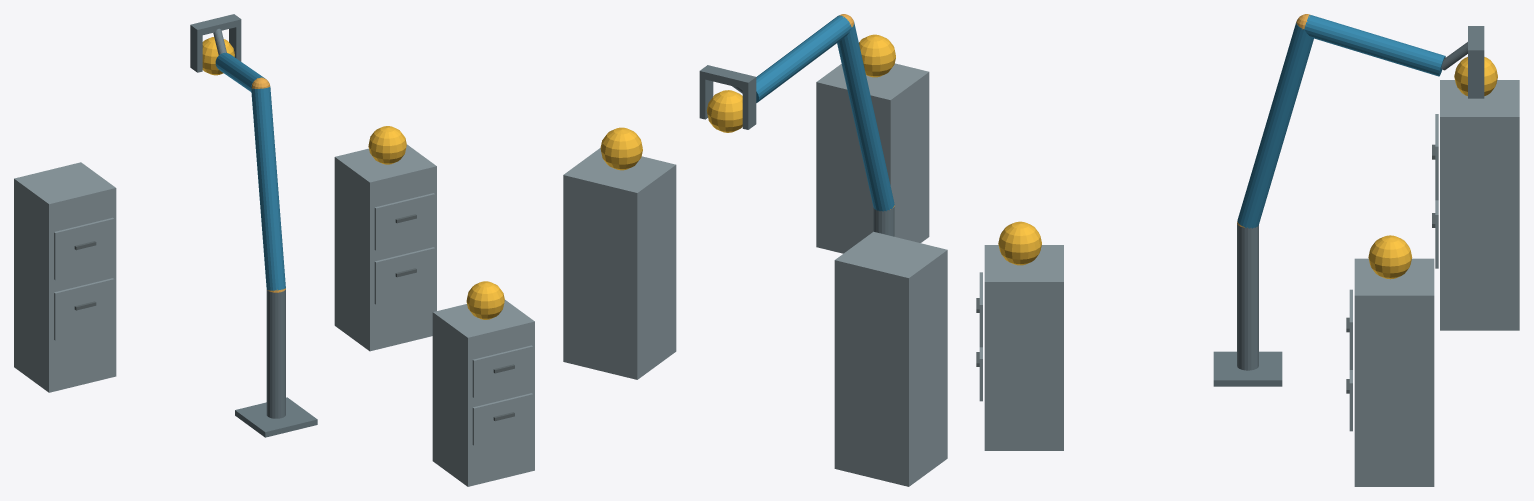
3 renders of one model, left to right at view 1: azimuth 30°, elevation 25°; view 2: azimuth 150°, elevation 25°; view 3: azimuth 270°, elevation 25°, orthographic. The views are drawn at different scales.
Parts seen in each view (by area): view 1: cabinet_3 body, cabinet_2 body, cabinet_1 body, moving link 1, cabinet_3 drawer front.001, cabinet_3 drawer front, cabinet_2 drawer front, cabinet_2 drawer front.001, fixed post, cabinet_1 drawer front, cabinet_1 drawer front.001, pedestal (+5 smaller); view 2: cabinet_3 body, cabinet_2 body, cabinet_1 body, moving link 1, moving link 2, released ball_2, ball ball_3, released ball_1, gripper bridge, gripper finger -1, fixed post, gripper finger 1; view 3: cabinet_3 body, cabinet_2 body, cabinet_1 body, moving link 1, moving link 2, fixed post, pedestal, released ball_1, released ball_2, ball ball_3, gripper finger 1.
Part boxes in pixels (bbox=[...]): cabinet_3 body: bbox=[14, 162, 116, 392]; cabinet_2 body: bbox=[334, 144, 436, 351]; cabinet_1 body: bbox=[432, 300, 534, 486]; moving link 1: bbox=[251, 86, 285, 290]; cabinet_3 drawer front.001: bbox=[54, 217, 114, 280]; cabinet_3 drawer front: bbox=[54, 278, 114, 340]; cabinet_2 drawer front: bbox=[374, 247, 434, 304]; cabinet_2 drawer front.001: bbox=[374, 193, 434, 250]; fixed post: bbox=[266, 289, 285, 418]; cabinet_1 drawer front: bbox=[472, 393, 532, 445]; cabinet_1 drawer front.001: bbox=[472, 345, 532, 397]; pedestal: bbox=[235, 397, 317, 437]; cabinet_3 body: bbox=[834, 231, 947, 486]; cabinet_2 body: bbox=[563, 148, 676, 379]; cabinet_1 body: bbox=[816, 63, 929, 253]; moving link 1: bbox=[837, 22, 894, 211]; moving link 2: bbox=[756, 15, 851, 102]; released ball_2: bbox=[600, 127, 642, 170]; ball ball_3: bbox=[706, 90, 742, 132]; released ball_1: bbox=[859, 34, 895, 77]; gripper bridge: bbox=[699, 65, 756, 89]; gripper finger -1: bbox=[742, 84, 756, 129]; fixed post: bbox=[873, 207, 894, 236]; gripper finger 1: bbox=[699, 78, 713, 119]; cabinet_3 body: bbox=[1440, 80, 1519, 330]; cabinet_2 body: bbox=[1354, 258, 1434, 486]; cabinet_1 body: bbox=[984, 245, 1063, 450]; moving link 1: bbox=[1237, 22, 1313, 228]; moving link 2: bbox=[1304, 15, 1445, 76]; fixed post: bbox=[1237, 223, 1258, 370]; pedestal: bbox=[1213, 351, 1282, 386]; released ball_1: bbox=[998, 221, 1041, 265]; released ball_2: bbox=[1368, 235, 1412, 279]; ball ball_3: bbox=[1454, 57, 1497, 96]; gripper finger 1: bbox=[1468, 57, 1484, 98].
Size of the model in its own units: 1.67 by 1.46 by 1.98.
